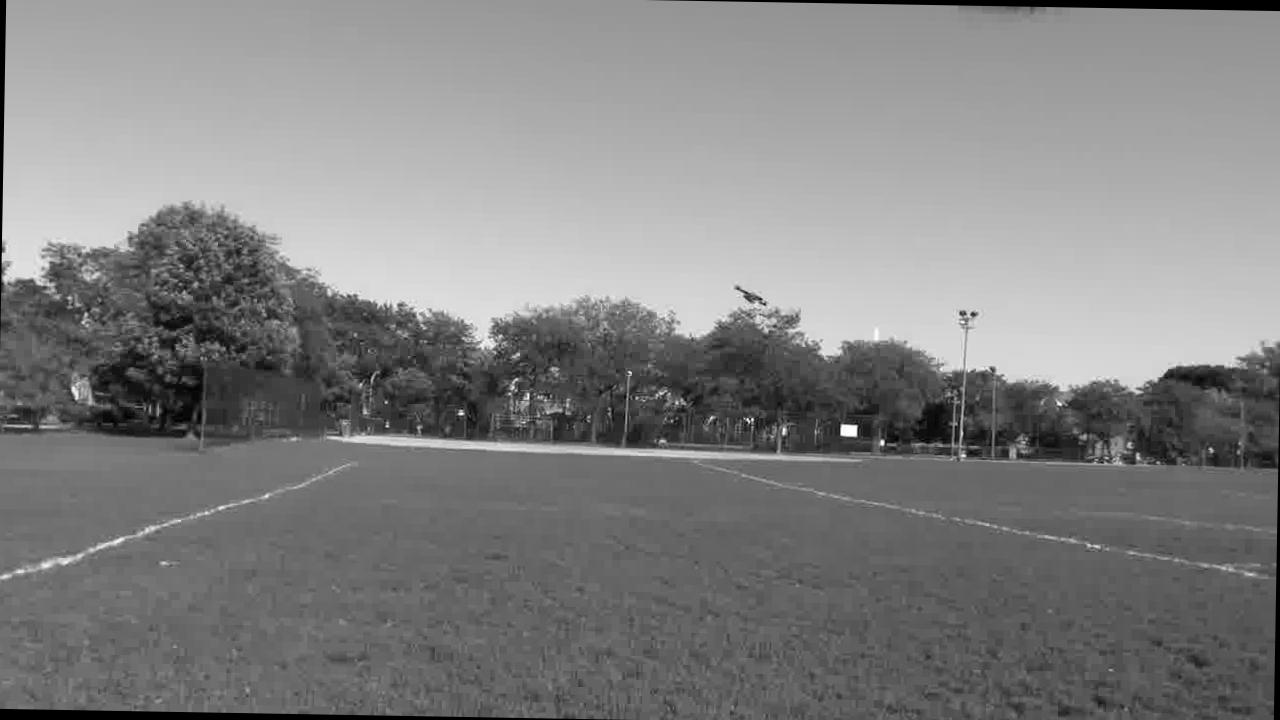drone: (719, 272, 778, 314)
